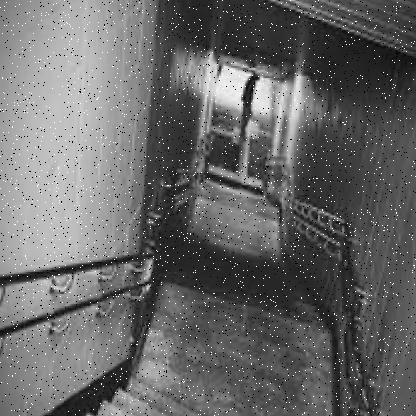stair_down: (166, 229, 316, 344)
